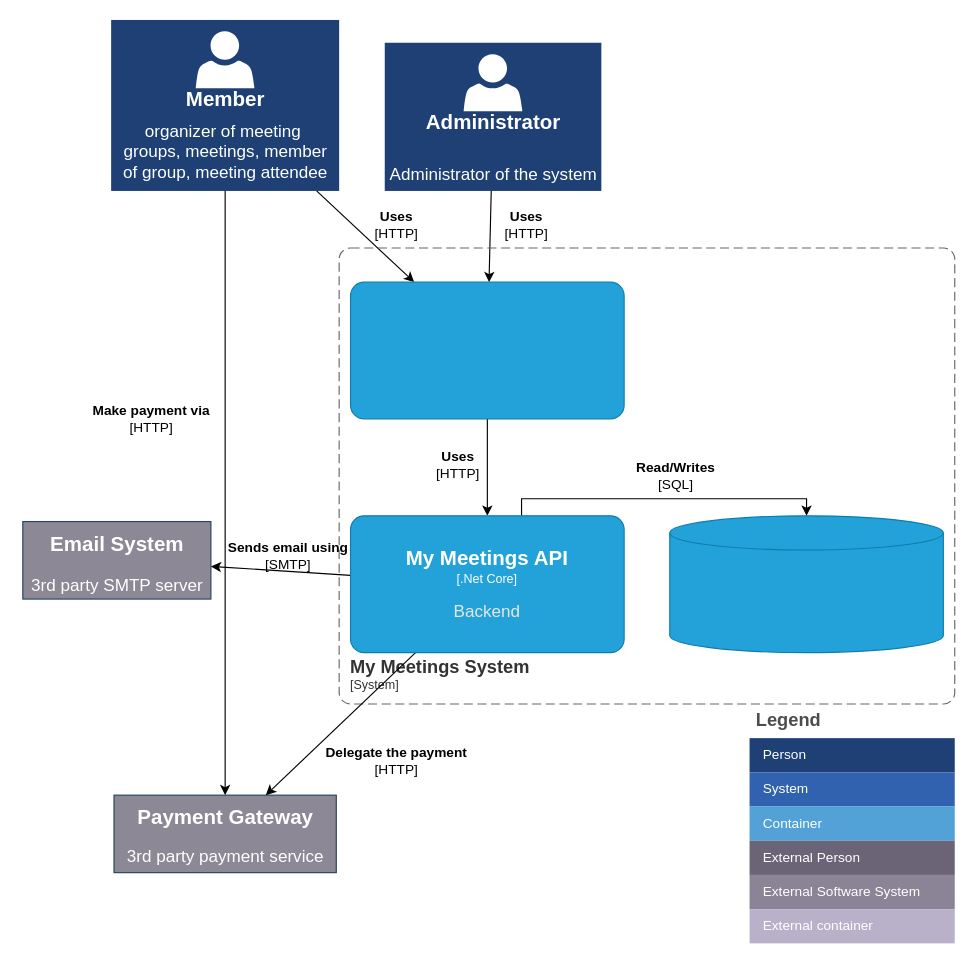
Some shapes in this 975 by 962 pixel diagram are drawn without their labels. Each missing label, with the box of its shape:
Database [My SQL] Data about meeting groups, members, meetings etc: (669, 515, 943, 653)
SPA [ReactJS] GUI for the application: (349, 281, 624, 419)
